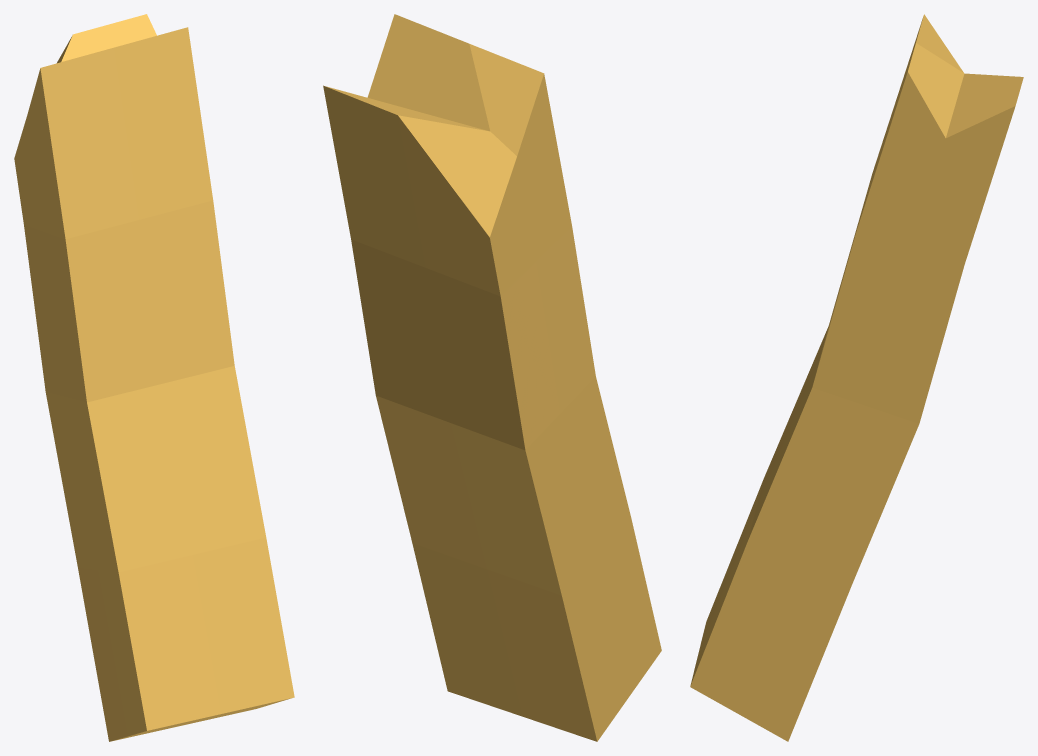
Rendered from Boat skeleton broken column7.fbx.
3 views of the same model, side by side, from view 1: azimuth 30°, elevation 25°; view 2: azimuth 150°, elevation 25°; view 3: azimuth 270°, elevation 25° (orthographic). The views are drawn at different scales.
Parts seen in each view (by area): view 1: Broken columns.006; view 2: Broken columns.006; view 3: Broken columns.006.
Part boxes in pixels (x1,y1,x2,y2): Broken columns.006: (14,14,294,741); Broken columns.006: (323,14,661,741); Broken columns.006: (690,14,1023,741).
Bounding box in the file's own units: 4.81 × 19.73 × 8.91.
